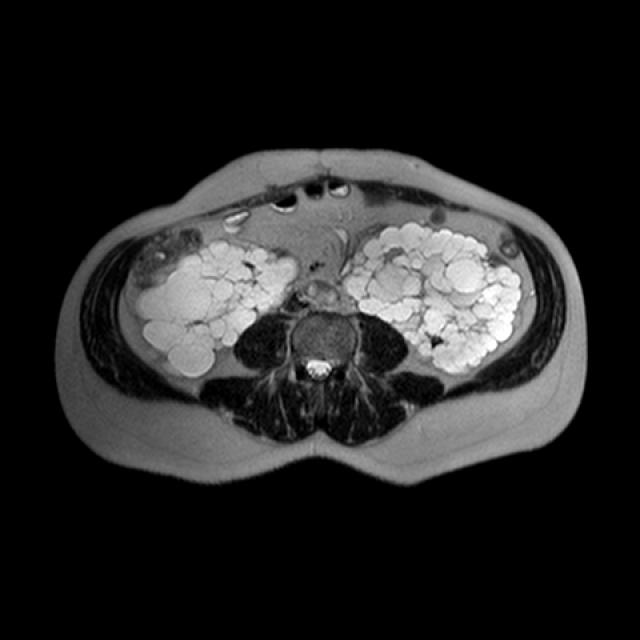sag: (132, 238, 302, 382)
sol: (339, 221, 528, 380)
